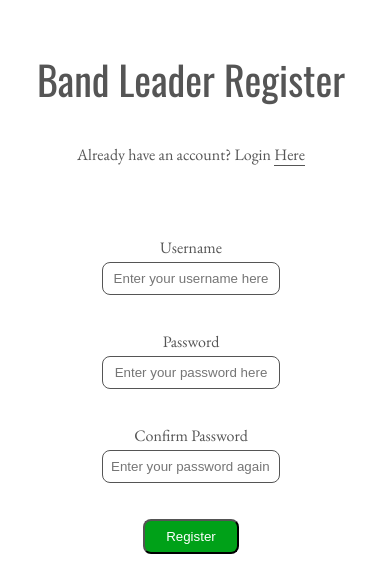
<BandleaderRegisterPage/> › Successful register redirects user to bandleader home
In the field with test id "UsernameTextInput": point(191, 278) x1=102 y1=262 x2=280 y2=295, type "testuser"
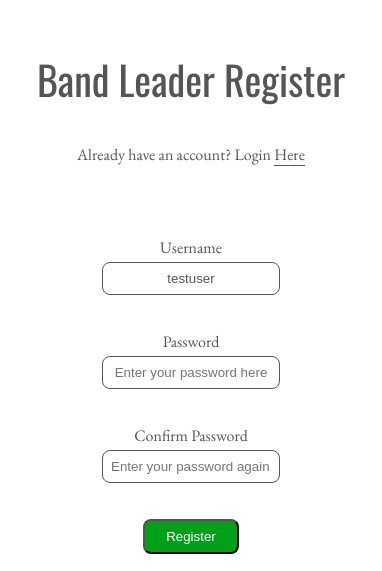
In the password field with test id "PasswordTextInput": point(191, 372) x1=102 y1=356 x2=280 y2=389, type "testpassword"
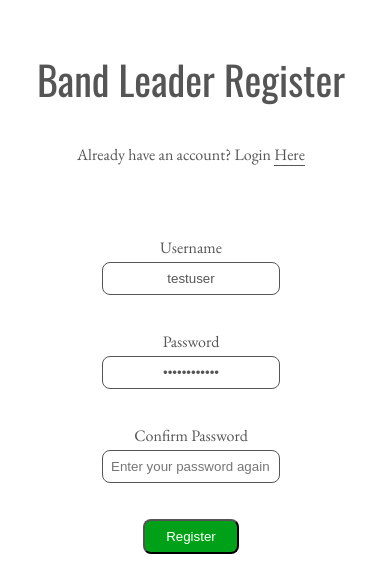
In the password field with test id "Confirm PasswordTextInput": point(191, 466) x1=102 y1=450 x2=280 y2=483, type "testpassword"
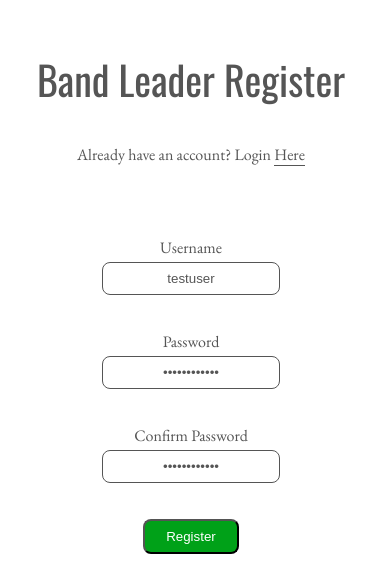
Click the button with test id "RegisterButton": point(191, 536) x1=143 y1=519 x2=239 y2=554
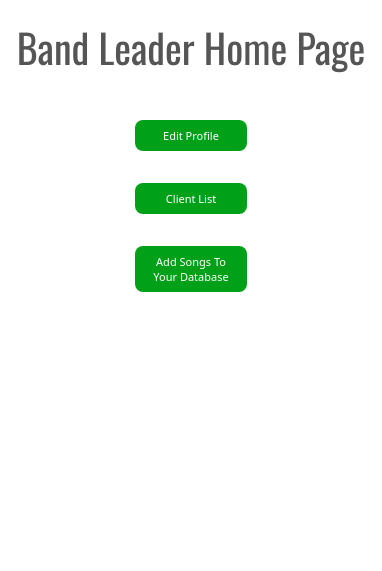
Check: the heading "Band Leader Home Page" is shown, box x1=17 y1=17 x2=365 y2=77
